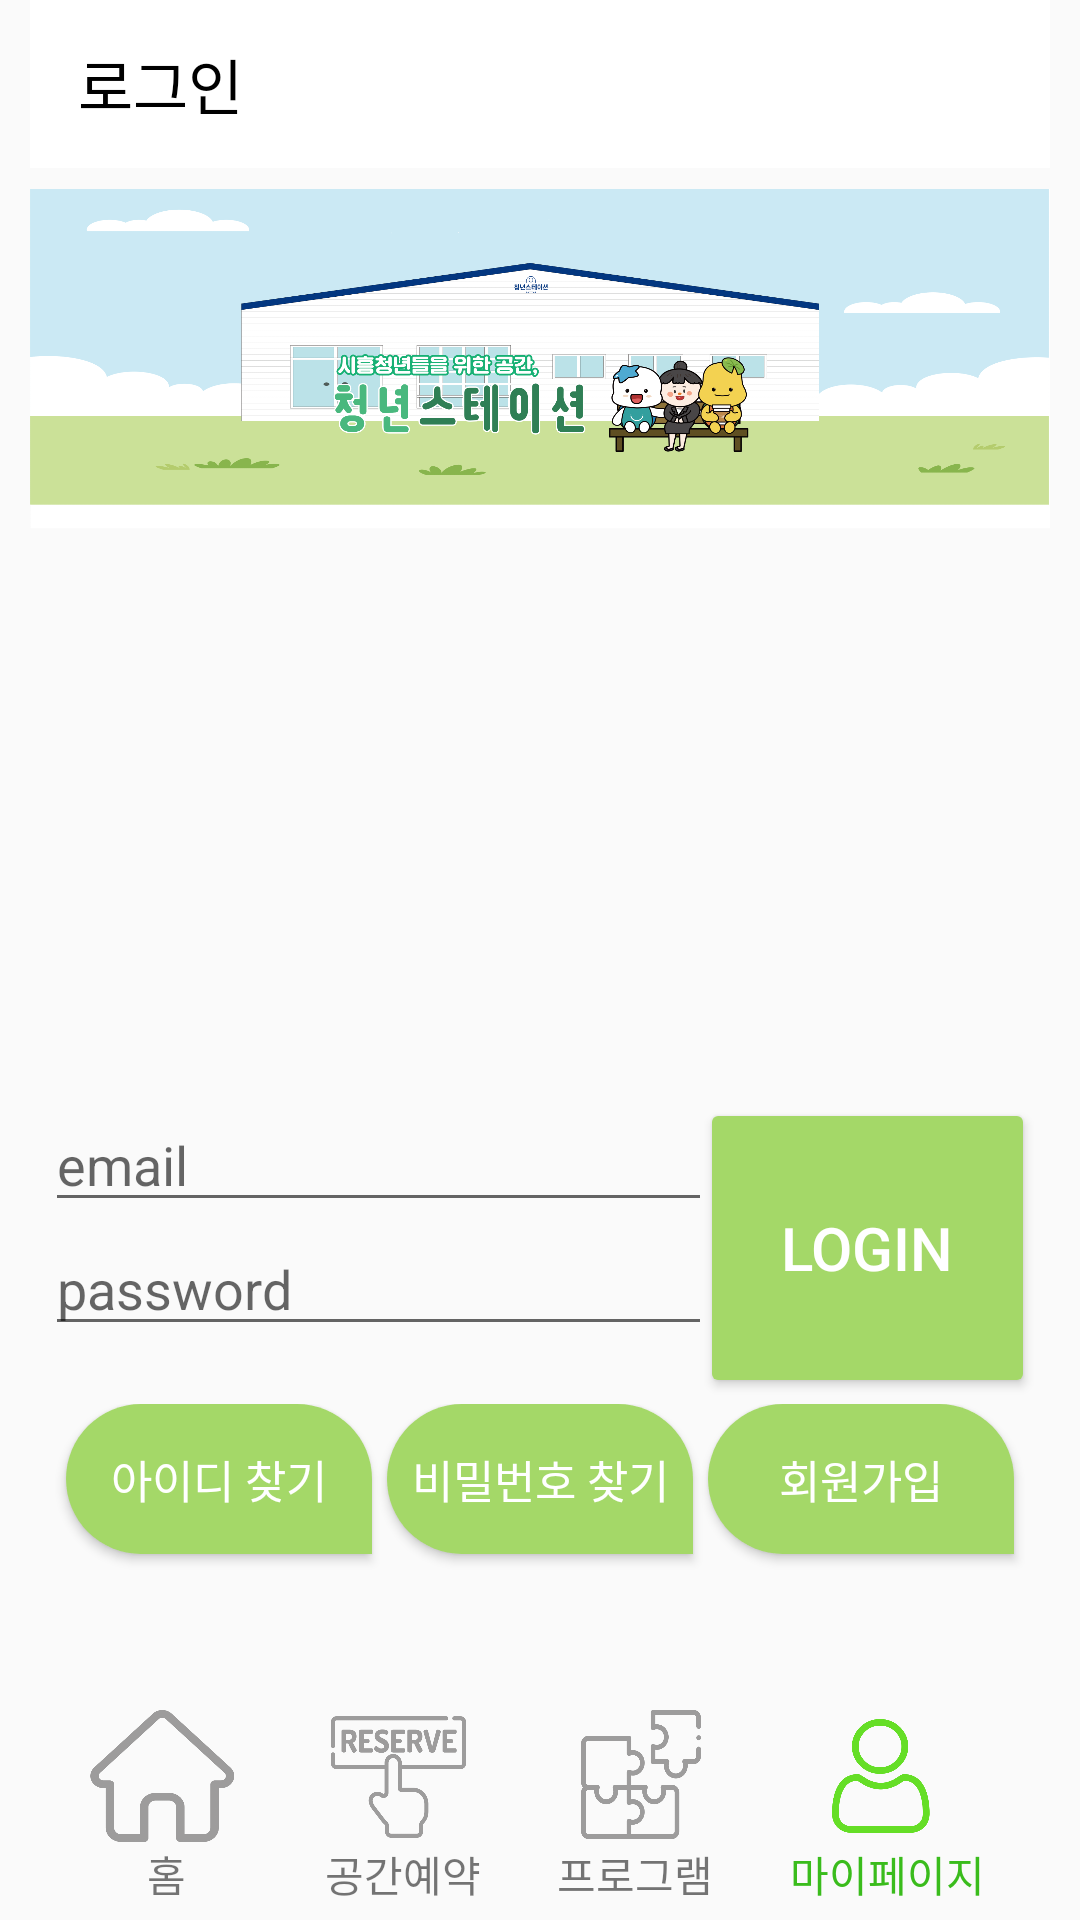

Named icons in this screenshot (1080×1920) and their centers, [x,y]:
puzzle: [641,1774]
user click: [881,1776]
